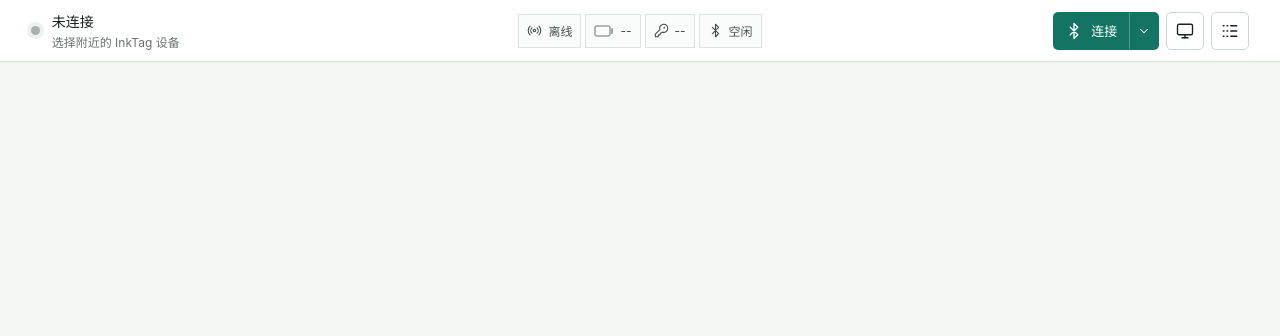
Test: restores the device name from history after unmount and disconnect
The image size is (1280, 336).
Click the button with class "connection-menu-toggle": [1144, 30] box [1129,12,1159,50]
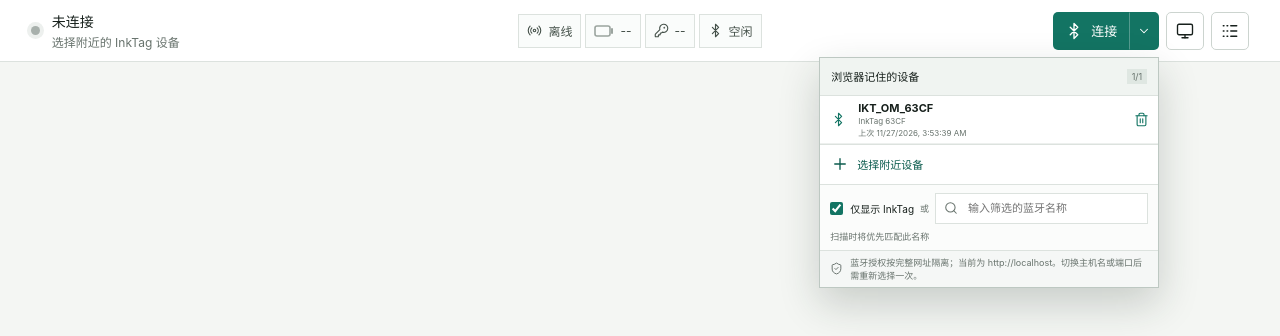
Expected: the text "IKT_OM_63CF" is shown, [858,100,933,114]
Expected: the text with class "known-device-name" reads "InkTag 63CF", [858,116,906,126]
